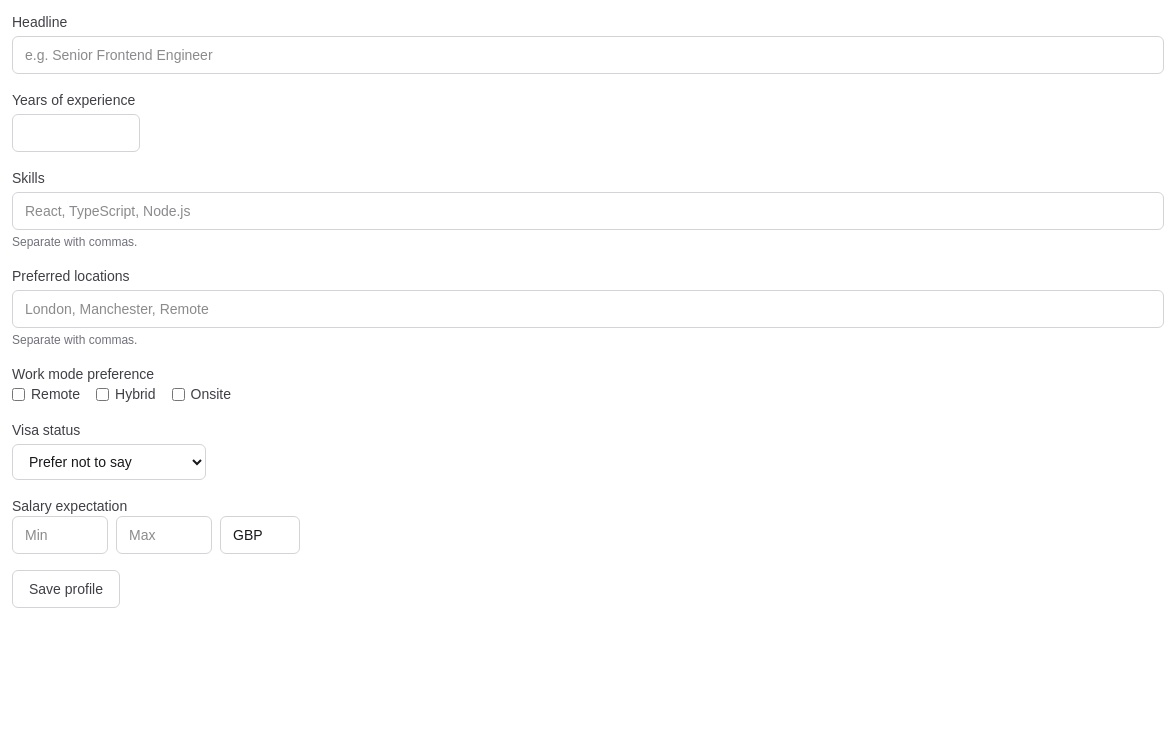
Test: ProfileForm › shows a saved confirmation on success and a friendly error on failure
What coordinates should you click on to do the following:
click the button "Save profile"
I would click on:
 (66, 589)
Its box is [12,570,120,608].
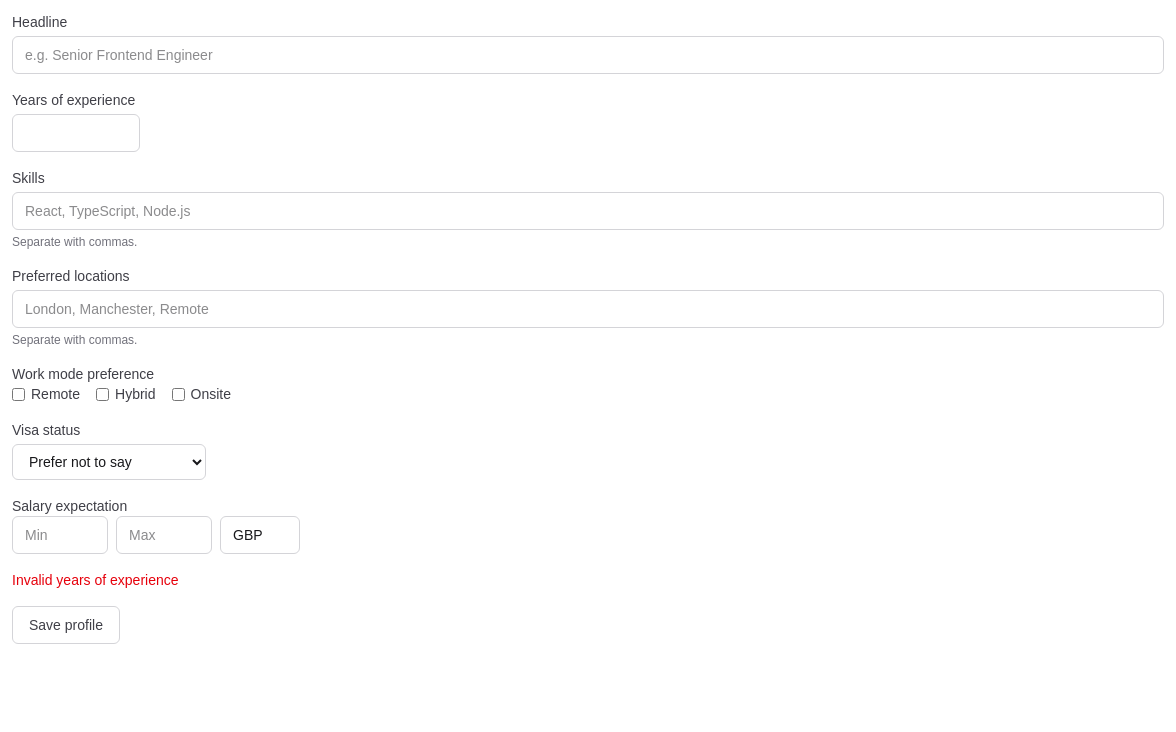
Expected: the text "Invalid years of experience" is shown, [12,572,178,588]
